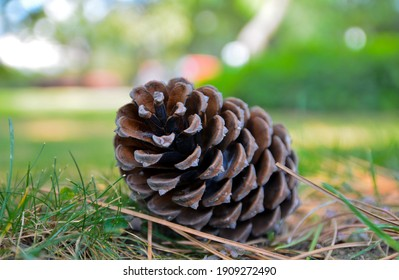Pc: (115, 81, 300, 242)
